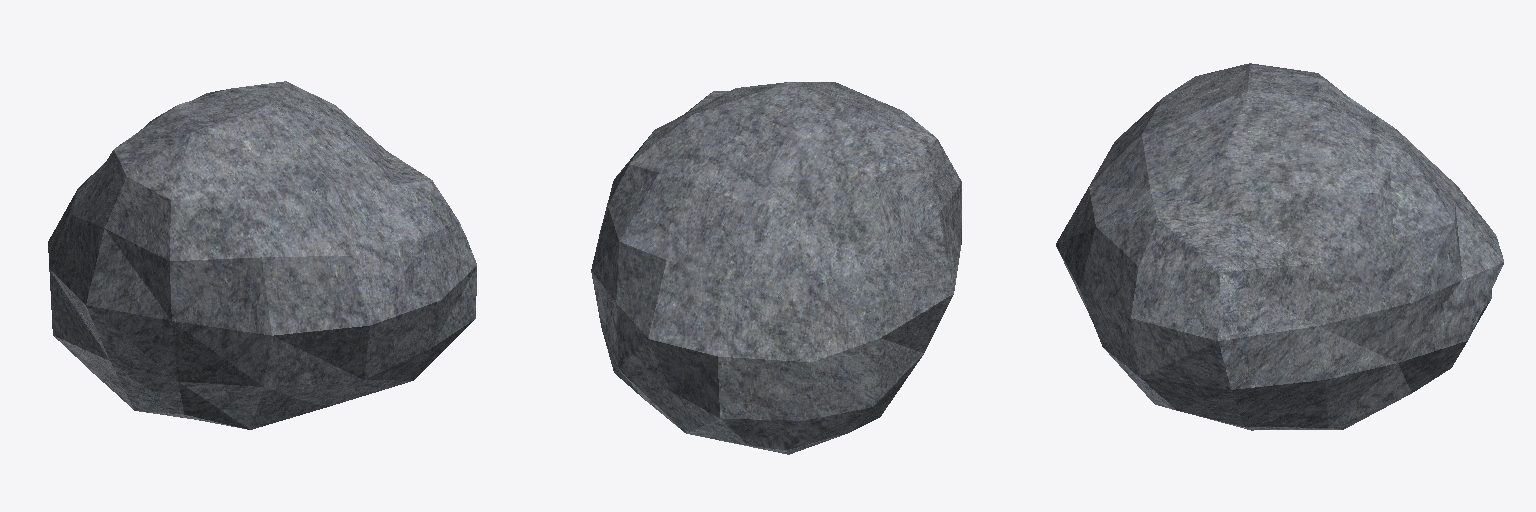
The picture shows the model from 3 angles: view 1: azimuth 30°, elevation 25°; view 2: azimuth 150°, elevation 25°; view 3: azimuth 270°, elevation 25°; orthographic projection.
Parts seen in each view (by area): view 1: rock_item; view 2: rock_item; view 3: rock_item.
Part boxes in pixels (x1,y1,x2,y2): rock_item: (48, 81, 476, 429); rock_item: (591, 82, 961, 454); rock_item: (1056, 63, 1503, 430).
Bounding box in the file's own units: 1.41 × 1.24 × 1.54.
1 materials, 1 textured.